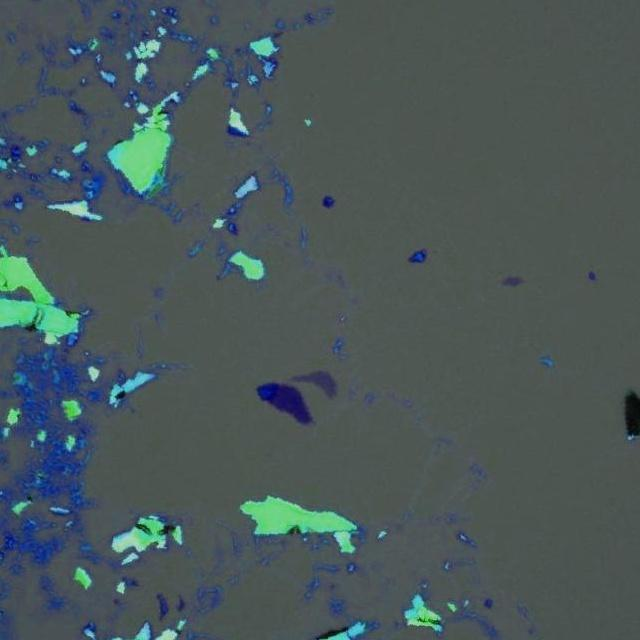monolayer-eWW4: (288, 367, 338, 399), (501, 276, 524, 288)
